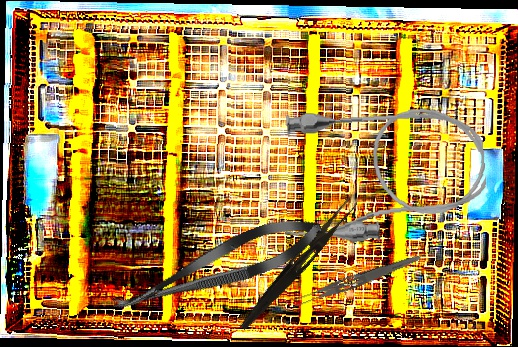Cannula: (274, 97, 491, 249)
Dressing Forceps: (237, 193, 359, 336), (289, 248, 423, 312)
Micro Scissor: (106, 205, 329, 328)
